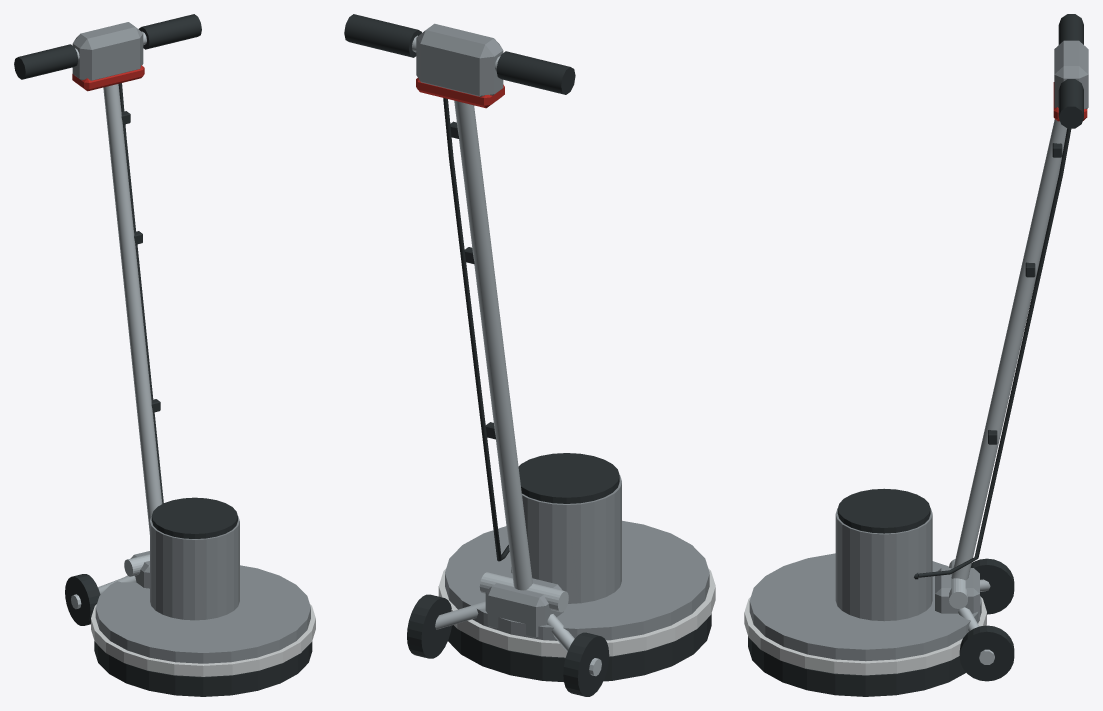
File: A-NEW-20261026-FLOOR-POLISHER-001_LOD2_R1.fbx
The picture shows the model from 3 angles, left to right: view 1: azimuth 30°, elevation 25°; view 2: azimuth 150°, elevation 25°; view 3: azimuth 270°, elevation 25°; orthographic projection. The views are drawn at different scales.
Parts seen in each view (by area): view 1: brush deck, motor housing, inclined straight shaft, dark bristle annulus, outer bumper, central control housing, motor upper cap, hand grip -1, hand grip 1, transport wheel -1, shaft electrical cable, red lower control; view 2: brush deck, inclined straight shaft, motor housing, dark bristle annulus, central control housing, motor upper cap, outer bumper, rear hinge base, shaft electrical cable, hand grip -1, transport wheel -1, transport wheel 1 (+4 smaller); view 3: brush deck, motor housing, inclined straight shaft, dark bristle annulus, outer bumper, motor upper cap, shaft electrical cable, transport wheel 1, central control housing, transport wheel -1, rear hinge base, hand grip 1 (+2 smaller).
Part boxes in pixels (x1,y1,x2,y2): brush deck: [95, 565, 310, 663]; motor housing: [150, 516, 239, 620]; inclined straight shaft: [103, 84, 162, 534]; dark bristle annulus: [94, 641, 312, 696]; outer bumper: [91, 604, 315, 676]; central control housing: [72, 22, 143, 80]; motor upper cap: [151, 497, 237, 538]; hand grip -1: [14, 44, 78, 79]; hand grip 1: [138, 14, 201, 49]; transport wheel -1: [65, 574, 100, 625]; shaft electrical cable: [118, 83, 163, 503]; red lower control: [72, 65, 144, 91]; brush deck: [445, 520, 709, 640]; inclined straight shaft: [454, 100, 532, 590]; motor housing: [511, 475, 621, 603]; dark bristle annulus: [448, 613, 711, 681]; central control housing: [416, 23, 503, 96]; motor upper cap: [518, 453, 619, 503]; outer bumper: [438, 568, 715, 657]; rear hinge base: [485, 573, 563, 638]; shaft electrical cable: [443, 98, 509, 561]; hand grip -1: [496, 51, 575, 94]; transport wheel -1: [563, 632, 609, 696]; transport wheel 1: [407, 594, 451, 658]; brush deck: [749, 553, 981, 661]; motor housing: [835, 508, 932, 621]; inclined straight shaft: [951, 119, 1066, 580]; dark bristle annulus: [748, 636, 966, 696]; outer bumper: [744, 596, 986, 675]; motor upper cap: [837, 488, 930, 533]; shaft electrical cable: [918, 128, 1071, 577]; transport wheel 1: [959, 625, 1014, 681]; central control housing: [1054, 40, 1088, 108]; transport wheel -1: [971, 558, 1014, 614]; rear hinge base: [935, 568, 979, 621]; hand grip 1: [1058, 79, 1083, 128].
Size of the model in its own units: 46 by 124 by 65.25.
